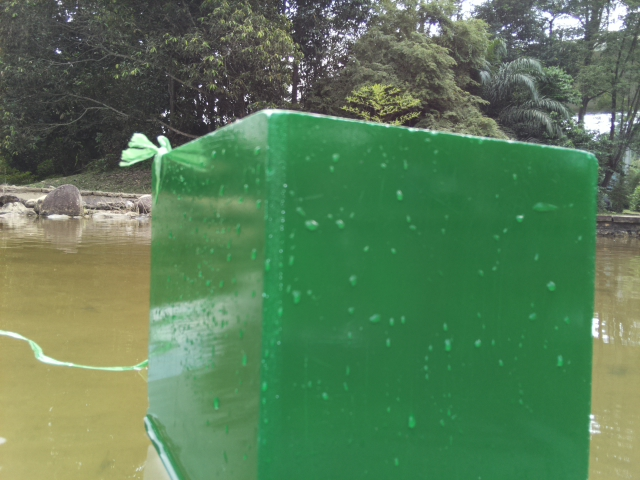obstacle: (144, 107, 601, 479)
